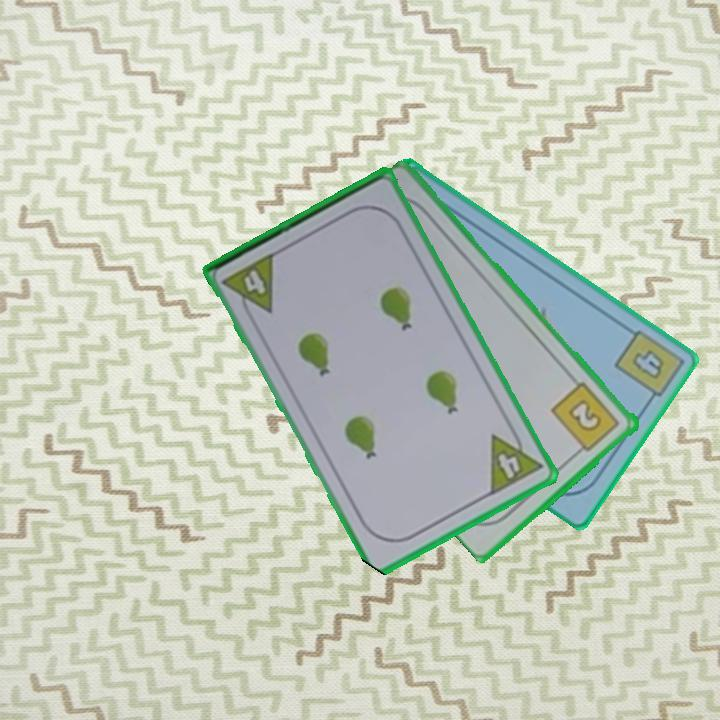2b: (548, 378, 623, 459)
4b: (610, 325, 686, 408)
4p: (486, 421, 546, 499), (219, 249, 278, 324)
